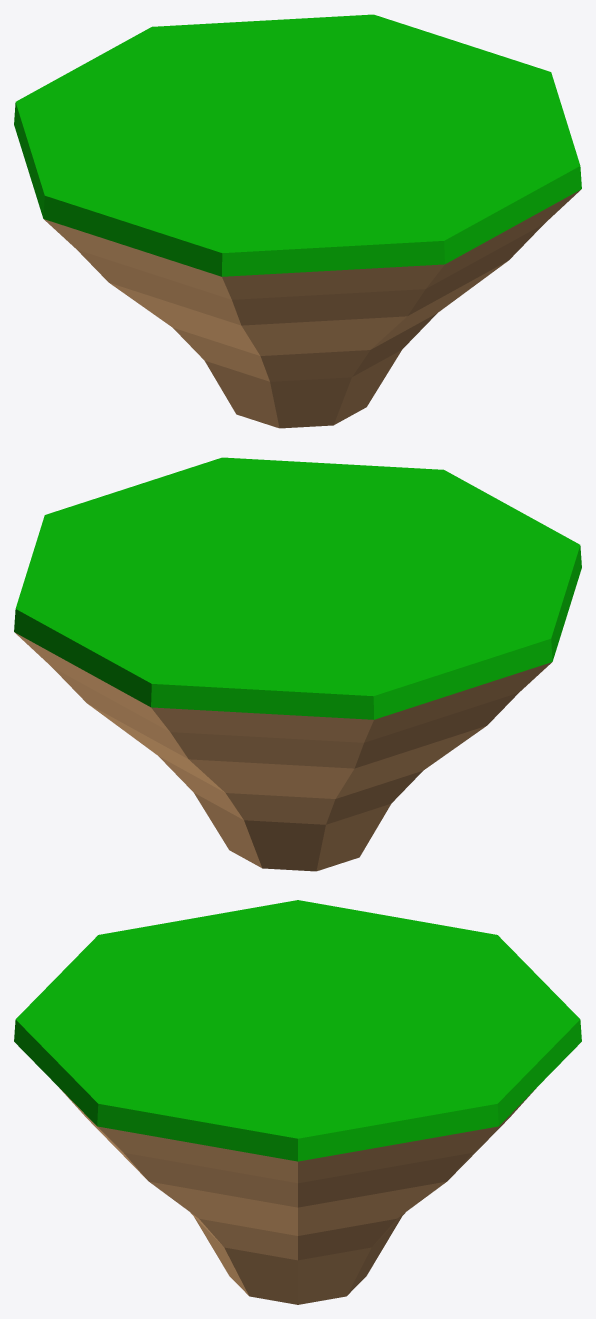
Rendered from island_extra_large.glb.
The picture shows the model from 3 angles, top to bottom: view 1: azimuth 30°, elevation 25°; view 2: azimuth 150°, elevation 25°; view 3: azimuth 270°, elevation 25°; orthographic projection. The views are drawn at different scales.
Visible parts, largest first — view 1: IslandExtraLarge; view 2: IslandExtraLarge; view 3: IslandExtraLarge.
Part boxes in pixels (x1,y1,x2,y2): IslandExtraLarge: (14, 14, 581, 428); IslandExtraLarge: (14, 457, 581, 871); IslandExtraLarge: (14, 900, 581, 1304).
Bounding box in the file's own units: 80.45 × 40.09 × 80.45.
Materials: 1 (1 with a texture image).
